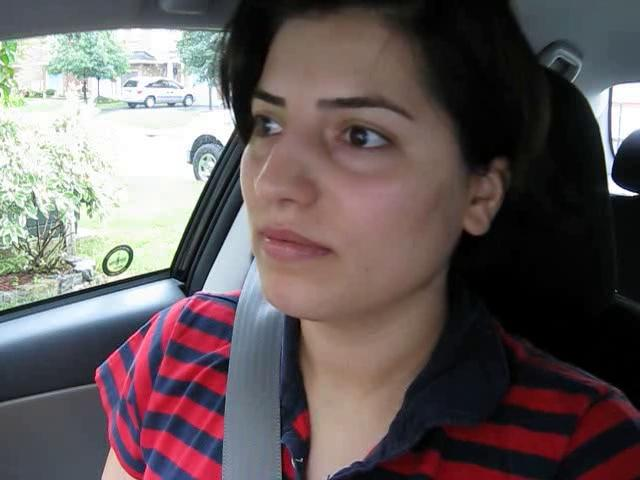no_yawn: (238, 216, 348, 279)
open_eyeL: (241, 98, 301, 149)
open_eyeR: (319, 108, 416, 168)
